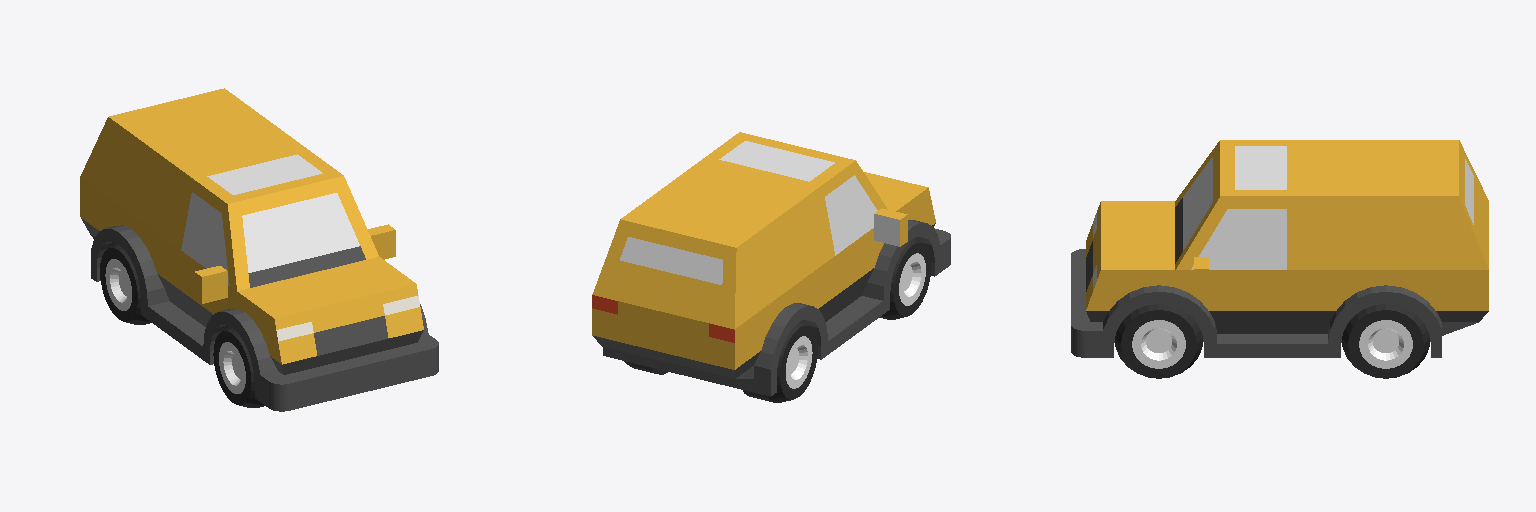
File: suvLuxury.obj
The picture shows the model from 3 angles: view 1: azimuth 30°, elevation 25°; view 2: azimuth 150°, elevation 25°; view 3: azimuth 270°, elevation 25°; orthographic projection.
Visible parts, largest first — view 1: body, wheel_backRight, wheel_frontRight; view 2: body, wheel_backRight, wheel_frontRight; view 3: body, wheel_frontLeft, wheel_backLeft.
Part boxes in pixels (left/top/right/bottom): body: left=80, top=88, right=438, bottom=411; wheel_backRight: left=100, top=243, right=151, bottom=324; wheel_frontRight: left=213, top=326, right=264, bottom=407; body: left=592, top=132, right=950, bottom=396; wheel_backRight: left=743, top=320, right=817, bottom=402; wheel_frontRight: left=879, top=237, right=931, bottom=319; body: left=1071, top=140, right=1488, bottom=357; wheel_frontLeft: left=1115, top=304, right=1202, bottom=378; wheel_backLeft: left=1342, top=304, right=1429, bottom=378.
Size of the model in its own units: 59.06 by 51.18 by 110.